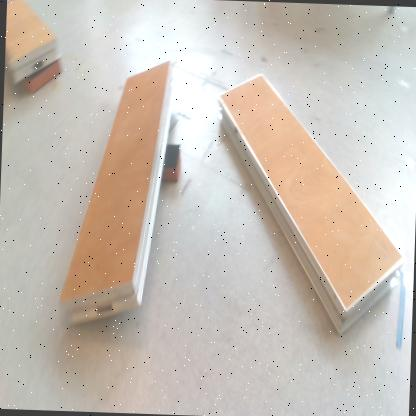Stairs: (219, 75, 407, 340), (57, 61, 178, 329), (7, 1, 60, 87)
